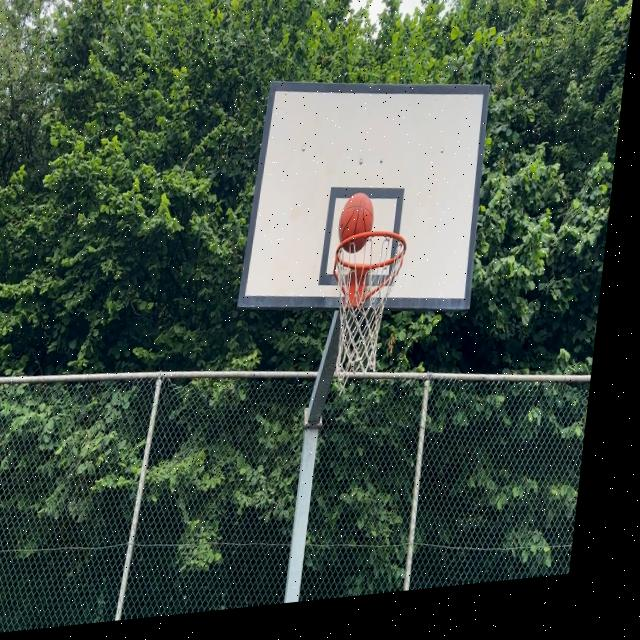rebound_hit: (335, 190, 377, 256)
